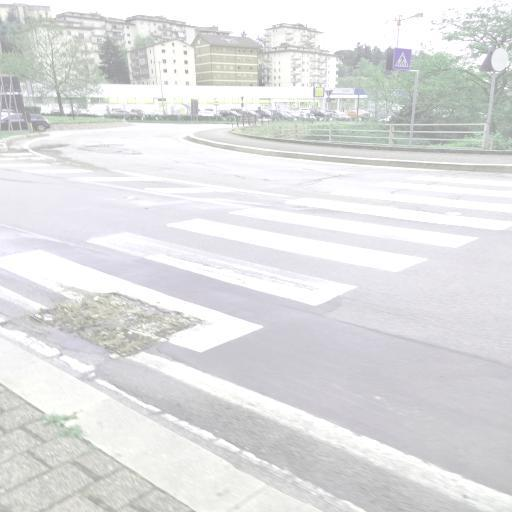crosswalk: (54, 216, 434, 309)
